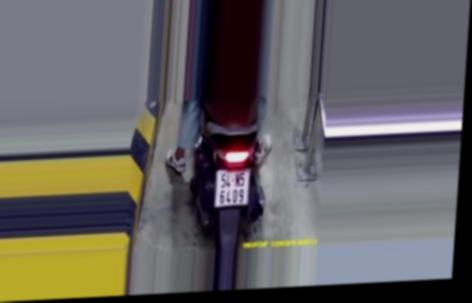License_Plate: (209, 165, 255, 208)
